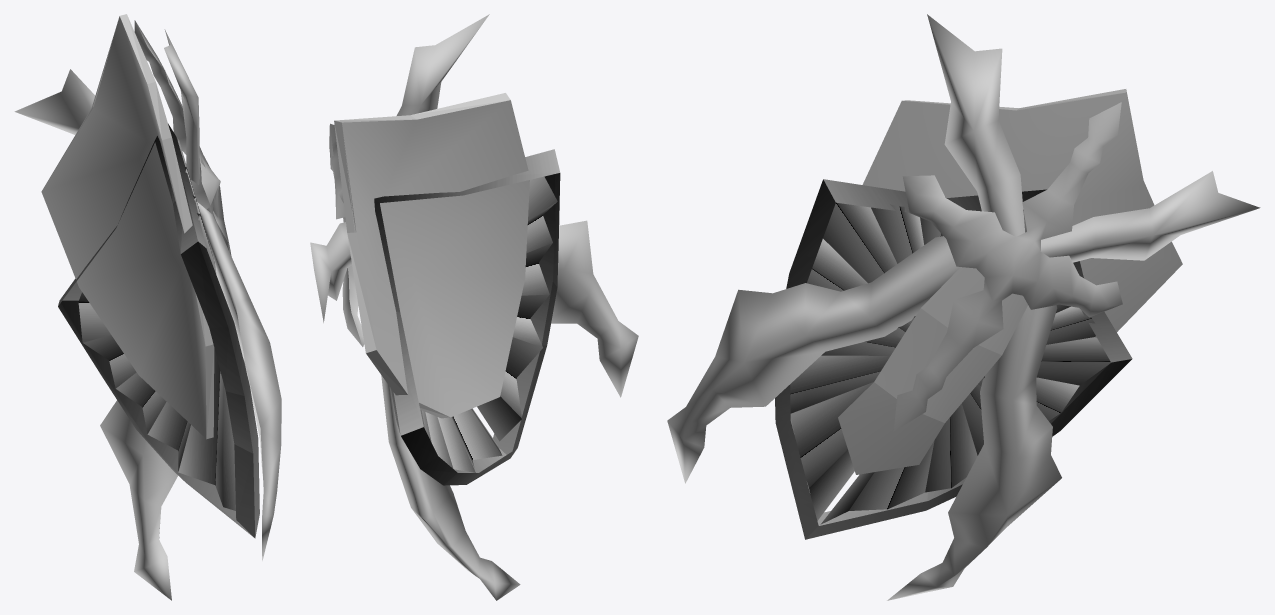
File: shizijiazhidun.FBX
3 renders of one model, left to right at view 1: azimuth 30°, elevation 25°; view 2: azimuth 150°, elevation 25°; view 3: azimuth 270°, elevation 25°, orthographic. The views are drawn at different scales.
Parts seen in each view (by area): view 1: SMDImport; view 2: SMDImport; view 3: SMDImport.
Boxes of the visible parts, <box> form: SMDImport: <box>14,14,281,600</box>; SMDImport: <box>310,14,638,600</box>; SMDImport: <box>667,14,1260,600</box>.
Bounding box in the file's own units: 29.23 × 126 × 114.
